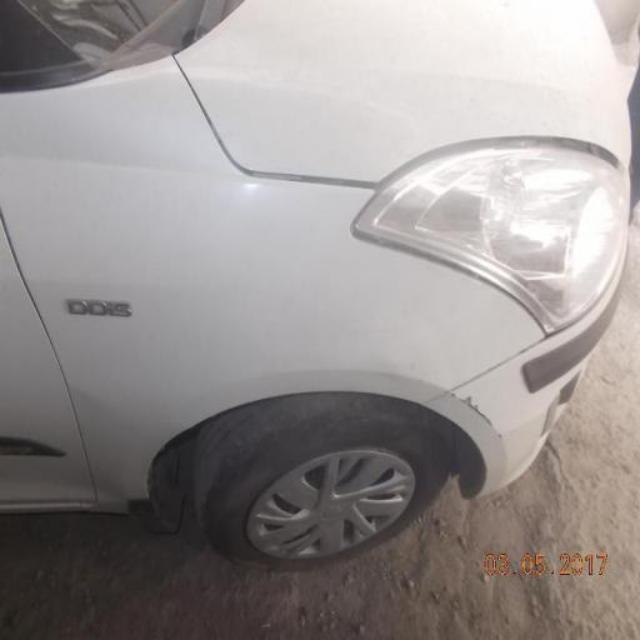crack: (447, 392, 503, 440)
